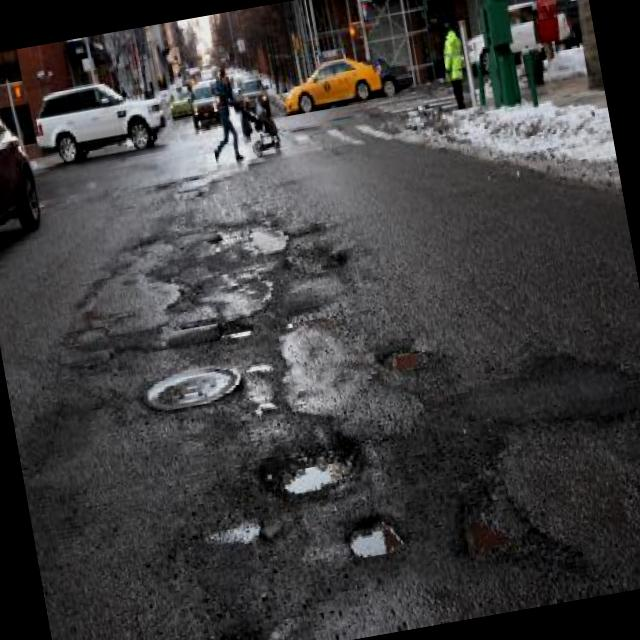Lubang: (258, 431, 363, 496), (453, 492, 515, 559), (210, 220, 288, 257), (348, 513, 402, 558), (374, 337, 438, 373), (219, 318, 252, 339)
